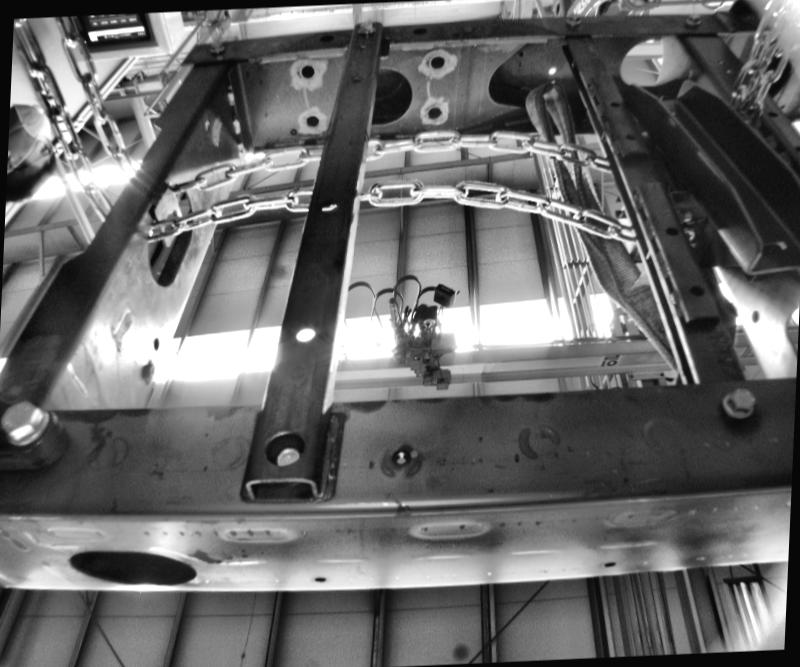bolt: (2, 388, 52, 450), (714, 385, 758, 418), (138, 357, 160, 382), (562, 11, 586, 26), (685, 11, 704, 29), (207, 38, 226, 54)
bracket: (145, 163, 190, 247)
hole: (51, 534, 203, 586), (263, 424, 301, 464), (292, 321, 318, 345), (386, 442, 410, 464), (320, 193, 340, 209), (298, 64, 316, 80), (428, 105, 446, 121), (306, 112, 322, 128), (430, 53, 446, 69), (746, 306, 762, 322), (312, 568, 326, 580), (600, 554, 614, 566), (152, 336, 160, 348), (290, 126, 298, 134)
welding: (226, 84, 238, 104), (237, 138, 247, 158), (233, 115, 243, 134)
